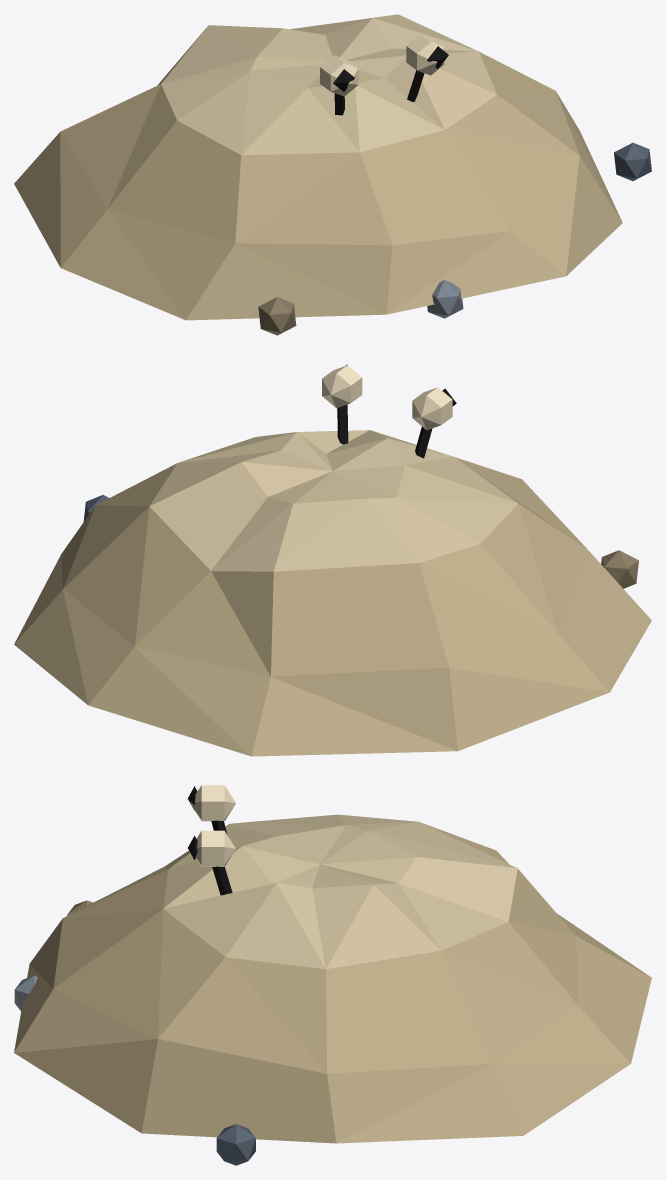
File: sand_mound.glb
The picture shows the model from 3 angles, top to bottom: view 1: azimuth 30°, elevation 25°; view 2: azimuth 150°, elevation 25°; view 3: azimuth 270°, elevation 25°; orthographic projection. The views are drawn at different scales.
Parts seen in each view (by area): view 1: sand_mound; view 2: sand_mound; view 3: sand_mound.
Part boxes in pixels (x1,y1,x2,y2): sand_mound: [14, 14, 651, 335]; sand_mound: [14, 364, 651, 756]; sand_mound: [14, 785, 651, 1165].
Bounding box in the file's own units: 0.8828 × 0.316 × 0.8293.
1 material, 1 textured.
